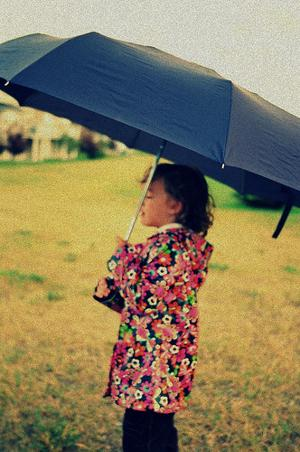person: (93, 163, 213, 452)
